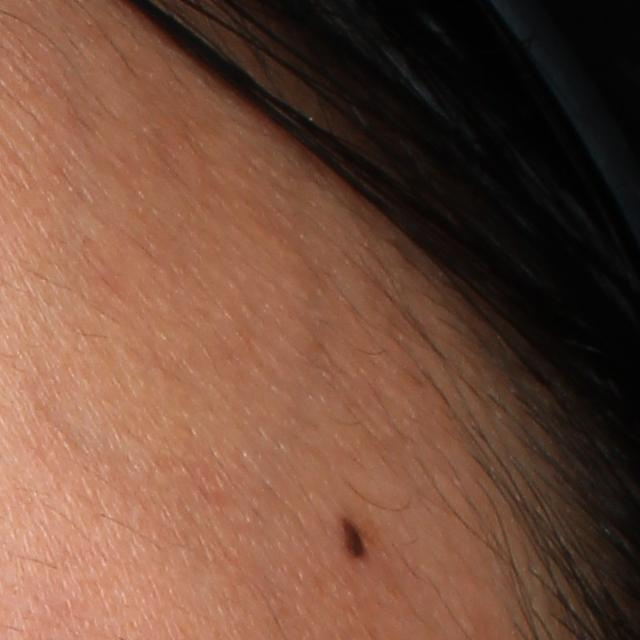nevus: (341, 514, 371, 562)
